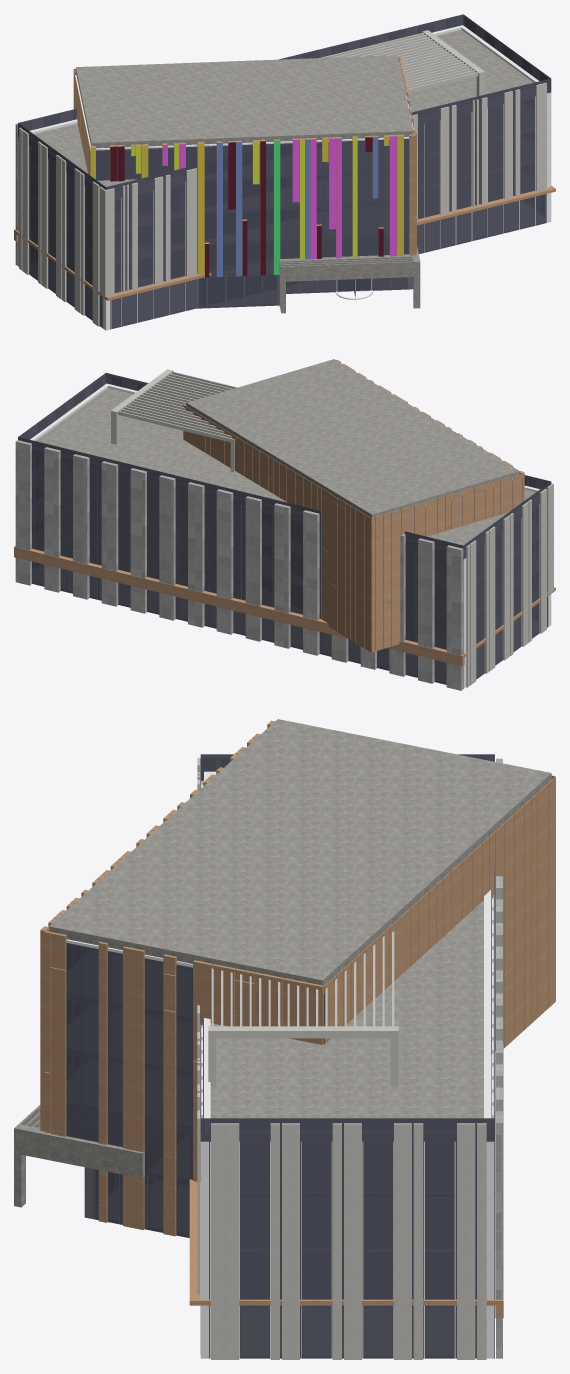
File: Bibliotheque.glb
3 renders of one model, top to bottom at view 1: azimuth 30°, elevation 25°; view 2: azimuth 150°, elevation 25°; view 3: azimuth 270°, elevation 25°, orthographic. The views are drawn at different scales.
Visible parts, largest first — view 1: glass.003, roof.003, glass.001, facadeElements.004, facadElementsColored, rooftop, bench, entrance, glassProfile.001, facadeElements.002, facadeElements.001, slab.002 (+2 smaller); view 2: facadeElements.003, glass.003, roof.003, facadeElements.001, rooftop, facadeElements.004, facadeElements.002, bench, glassProfile.001, slab.002, glass.001; view 3: roof.003, facadeElements.001, glass.003, facadeElements.004, rooftop, glass.001, glassProfile.001, bench, entrance, facadeElements.003, facadeElements.002, slab.002 (+1 smaller).
Part boxes in pixels (box(x1,y1,x2,y2)): glass.003: box(18, 14, 551, 329); roof.003: box(76, 55, 413, 148); glass.001: box(75, 73, 413, 308); facadeElements.004: box(19, 83, 546, 326); facadElementsColored: box(90, 134, 415, 277); rooftop: box(34, 30, 533, 186); bench: box(320, 30, 484, 96); entrance: box(279, 246, 420, 313); glassProfile.001: box(18, 92, 551, 330); facadeElements.002: box(14, 185, 555, 300); facadeElements.001: box(73, 56, 416, 253); slab.002: box(29, 25, 539, 133); facadeElements.003: box(15, 440, 463, 690); glass.003: box(18, 373, 551, 688); roof.003: box(186, 359, 519, 519); facadeElements.001: box(183, 404, 521, 652); rooftop: box(36, 388, 535, 545); facadeElements.004: box(466, 483, 553, 687); facadeElements.002: box(14, 546, 555, 666); bench: box(111, 369, 237, 471); glassProfile.001: box(97, 471, 551, 688); slab.002: box(30, 383, 539, 492); glass.001: box(236, 441, 522, 651); roof.003: box(49, 719, 551, 985); facadeElements.001: box(44, 775, 555, 1236); glass.003: box(200, 754, 494, 1358); facadeElements.004: box(197, 757, 486, 1359); rooftop: box(210, 900, 483, 1118); glass.001: box(66, 816, 523, 1237); glassProfile.001: box(200, 780, 494, 1358); bench: box(208, 931, 398, 1085); entrance: box(14, 1105, 144, 1207); facadeElements.003: box(496, 758, 502, 1358); facadeElements.002: box(189, 1044, 503, 1318); slab.002: box(204, 771, 490, 1118).
Size of the model in its own units: 50.73 by 18.27 by 31.68.
Materials: 13 (4 with a texture image).
